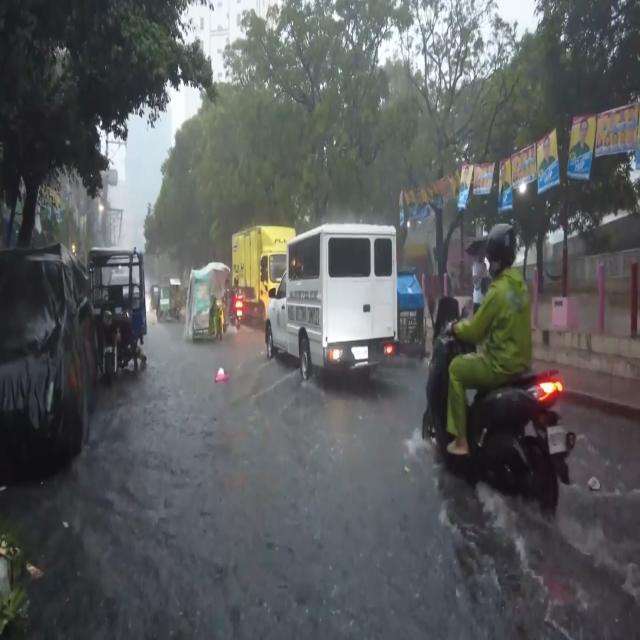full: (485, 222, 517, 277)
